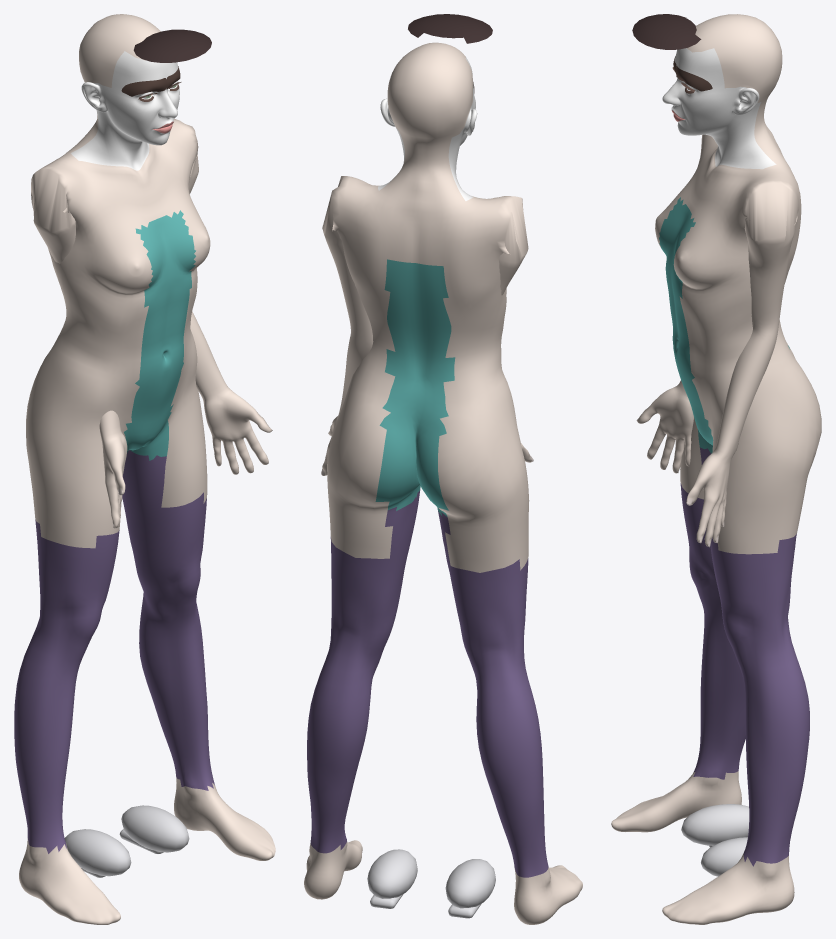
The model's file is hm_ped_suki_v16.glb.
3 renders of one model, left to right at view 1: azimuth 30°, elevation 25°; view 2: azimuth 150°, elevation 25°; view 3: azimuth 270°, elevation 25°, orthographic.
Visible parts, largest first — view 1: hm_ped_suki; view 2: hm_ped_suki; view 3: hm_ped_suki.
Boxes of the visible parts, box(x1,y1,x2,y2) form: hm_ped_suki: box(14, 14, 275, 924); hm_ped_suki: box(304, 14, 582, 924); hm_ped_suki: box(611, 14, 821, 924).
Bounding box in the file's own units: 0.479 × 1.62 × 0.3644.
